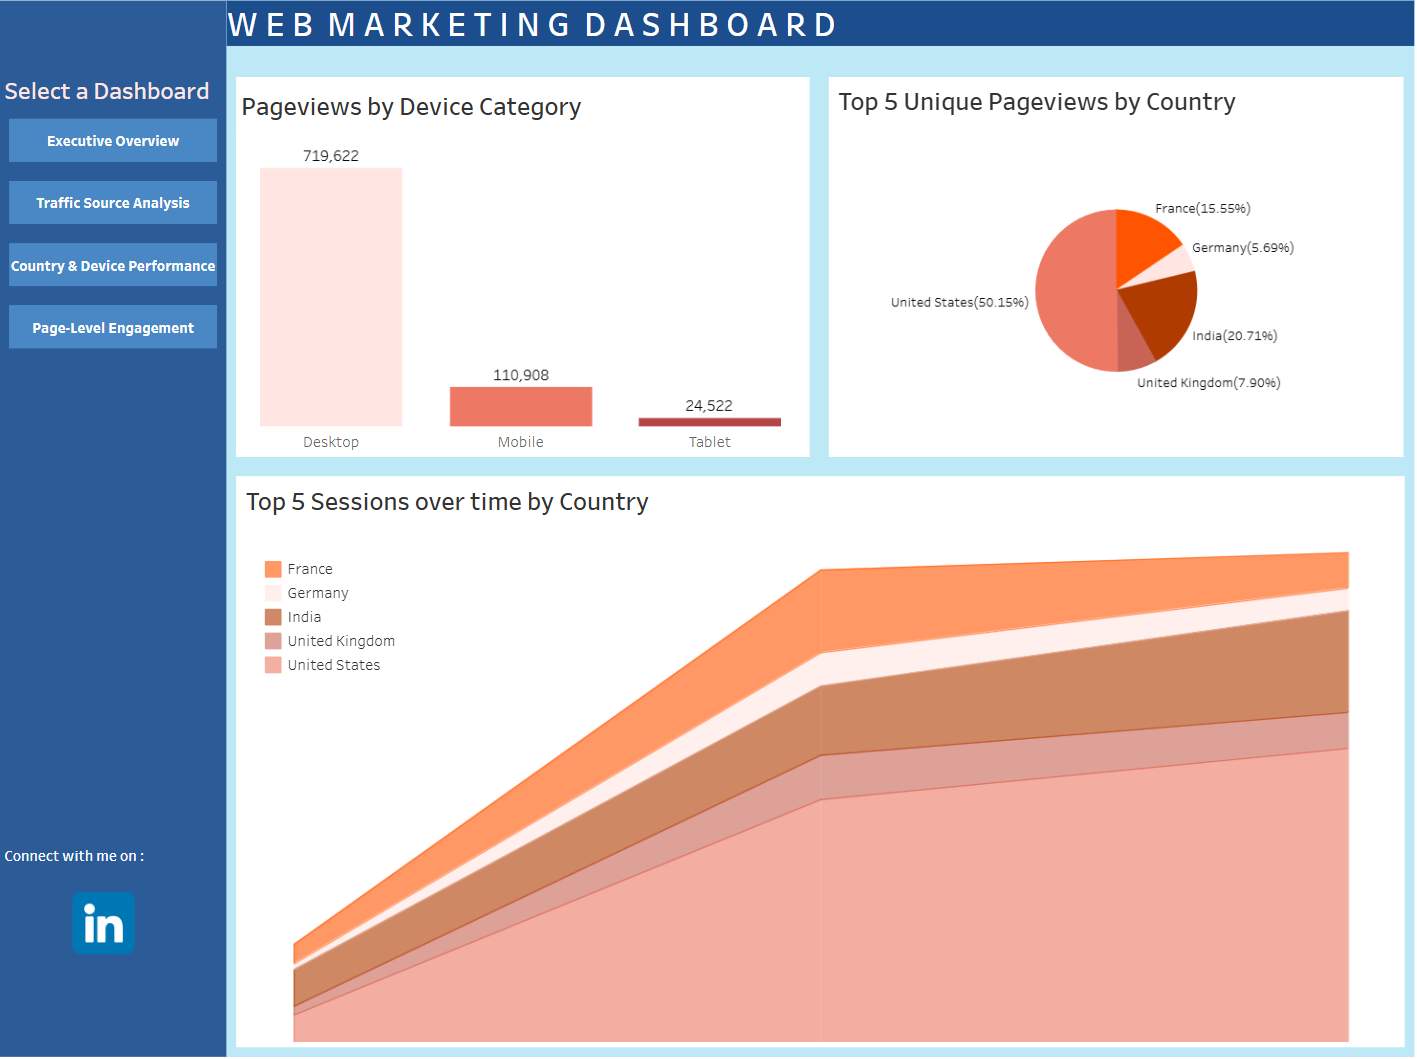

Layout of this report page (visuals, bound fields, positions):
{"tool":"tableau","page":{"name":"Country & Device Performance","canvas":[1200,900],"ordinal":0},"visuals":[{"type":"blank","box":[8,8,190,56]},{"type":"text","box":[198,8,994,45]},{"type":"text","box":[8,64,190,72]},{"type":"worksheet","title":"Pageviews by Device Category","mark":"Automatic","rows":["Pageviews"],"cols":["Device Category"],"box":[206,72,480,318]},{"type":"worksheet","title":"Top 5 Unique Pageviews by Country","mark":"Pie","box":[702,72,481,318]},{"type":"dashboard-object","box":[8,136,190,52]},{"type":"dashboard-object","box":[8,188,190,52]},{"type":"dashboard-object","box":[8,240,190,52]},{"type":"dashboard-object","box":[8,292,190,52]},{"type":"blank","box":[8,344,190,210]},{"type":"worksheet","title":"Top 5 Sessions over time by Country","mark":"Area","rows":["Sessions"],"cols":["Date"],"box":[206,406,978,478]},{"type":"legend","title":"Top 5 Sessions over time by Country","param":"[federated.0g6xm690gjbdcr16oj8ww0z68q8a].[none:Country:nk]","box":[227,474,143,114]},{"type":"text","box":[8,554,190,338]},{"type":"image","param":"Image/linkedin.png","box":[62,754,65,52]}]}

Visuals, with their boxes in screenshot pixels (x1, y1, x2, y2), scaled from the page's 1200x900 canvas onto the 1417x1059 screenshot:
blank: detection(9, 9, 234, 75)
text: detection(234, 9, 1408, 62)
text: detection(9, 75, 234, 160)
"Pageviews by Device Category" worksheet: detection(243, 85, 810, 459)
"Top 5 Unique Pageviews by Country" worksheet (Pie marks): detection(829, 85, 1397, 459)
dashboard-object: detection(9, 160, 234, 221)
dashboard-object: detection(9, 221, 234, 282)
dashboard-object: detection(9, 282, 234, 344)
dashboard-object: detection(9, 344, 234, 405)
blank: detection(9, 405, 234, 652)
"Top 5 Sessions over time by Country" worksheet (Area marks): detection(243, 478, 1398, 1040)
"Top 5 Sessions over time by Country" legend: detection(268, 558, 437, 692)
text: detection(9, 652, 234, 1050)
image: detection(73, 887, 150, 948)
